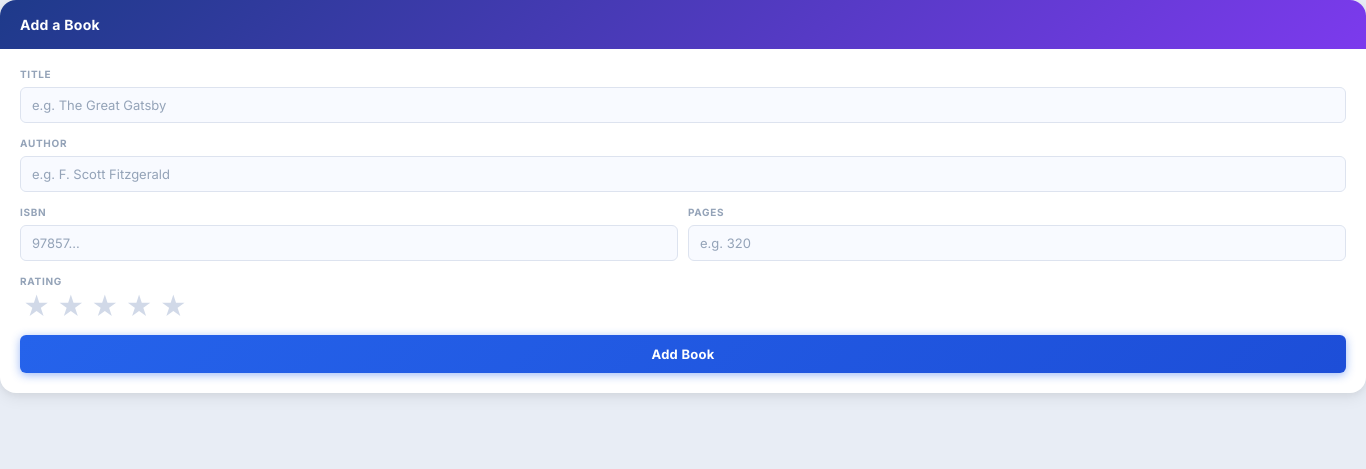
Test: AddBookForm › submits successfully and shows success message
Type "My Book" into the field labelled "Title" at (683, 105), box left=20, top=87, right=1346, bottom=123
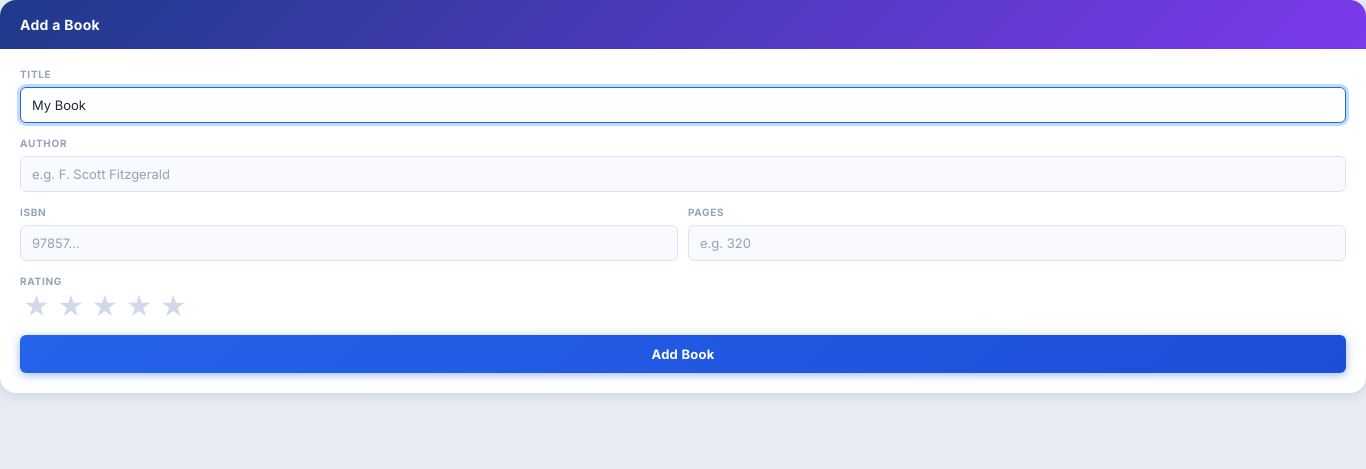
Type "Author" into the field labelled "Author" at (683, 174), box left=20, top=156, right=1346, bottom=192
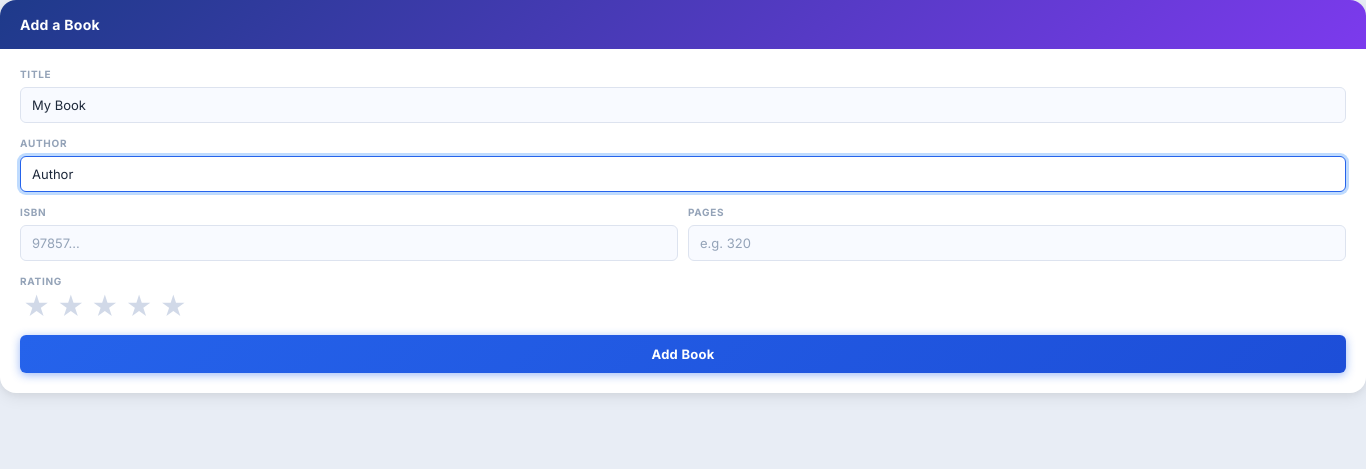
Type "1234567890" into the field labelled "ISBN" at (349, 243), box left=20, top=225, right=678, bottom=261
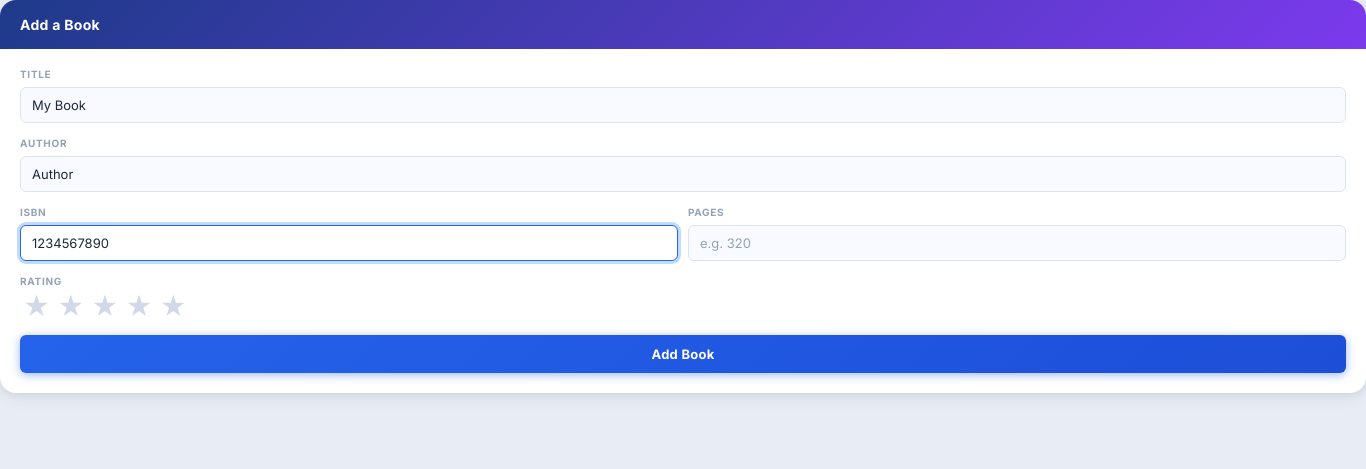
Type "200" into the number field labelled "Pages" at (1017, 243), box left=688, top=225, right=1346, bottom=261
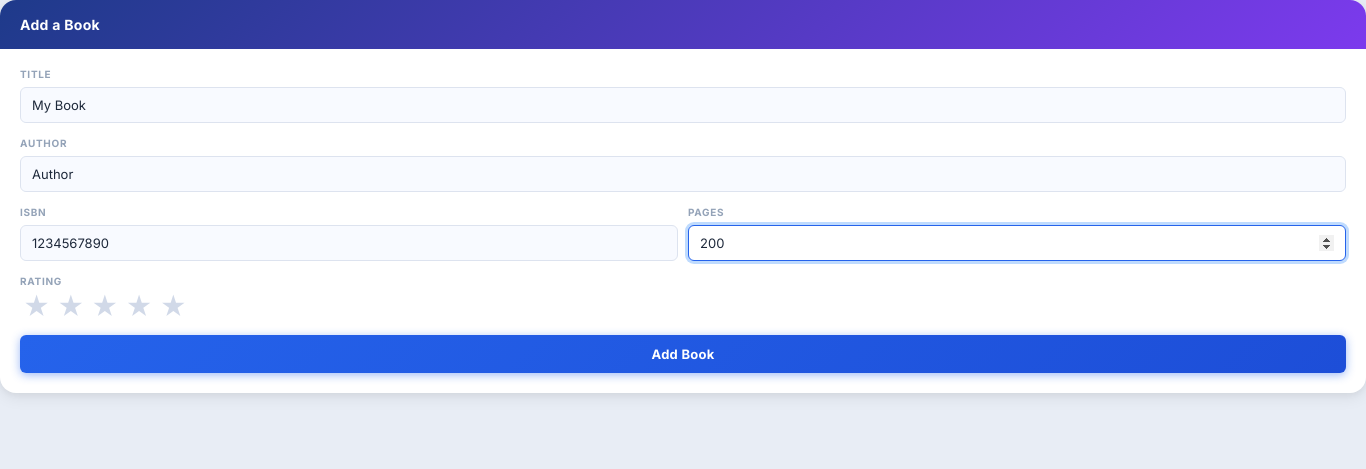
Click the button named "rate 4" at (139, 307), box left=122, top=294, right=156, bottom=320
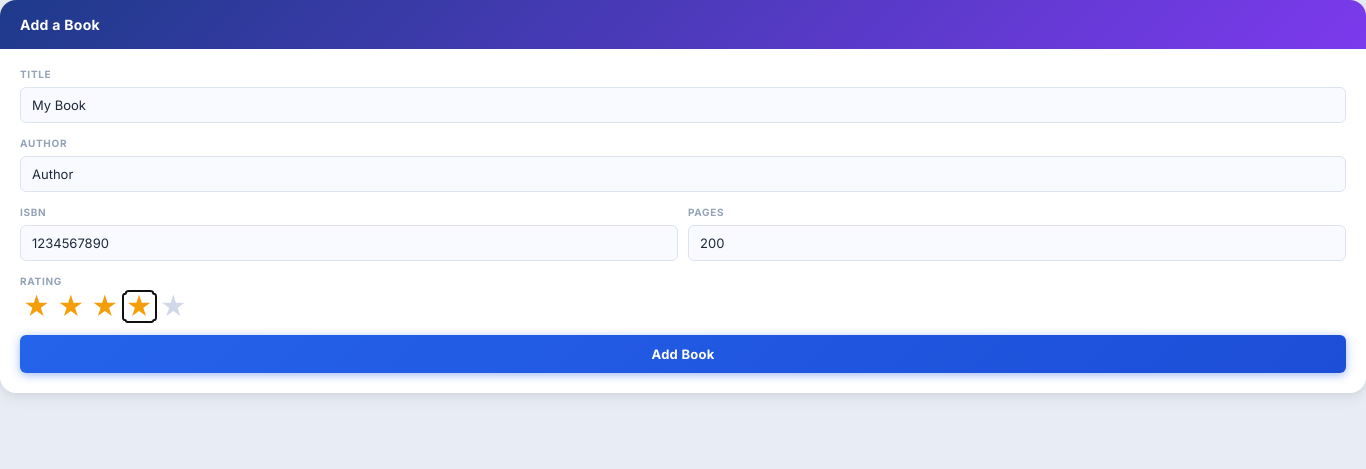
Click the button "Add Book" at (683, 354), box left=20, top=335, right=1346, bottom=373
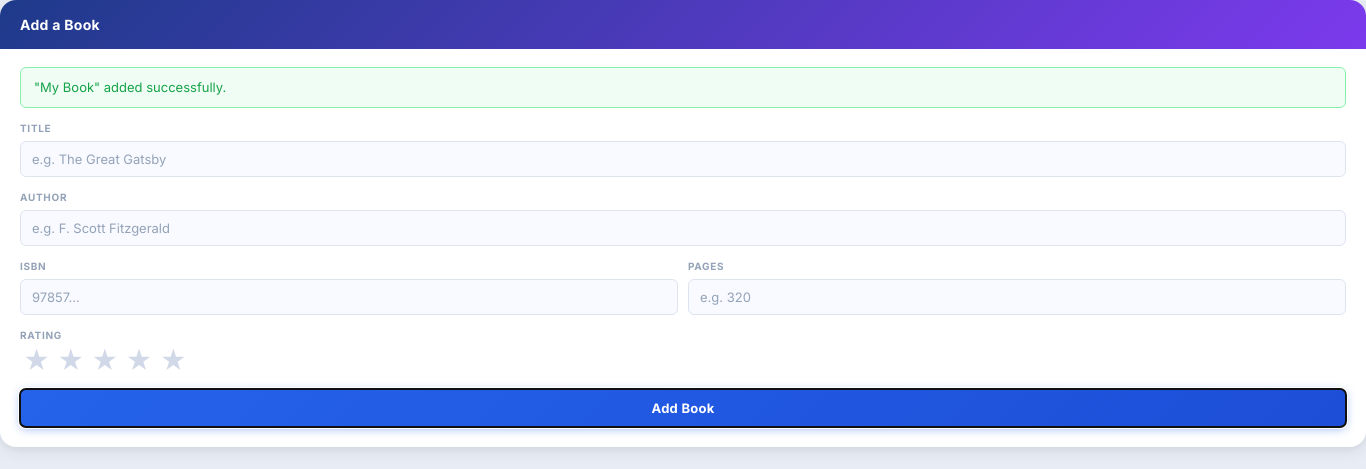
Expected: the message reads "\"My Book\" added successfully.", left=34, top=79, right=226, bottom=95
